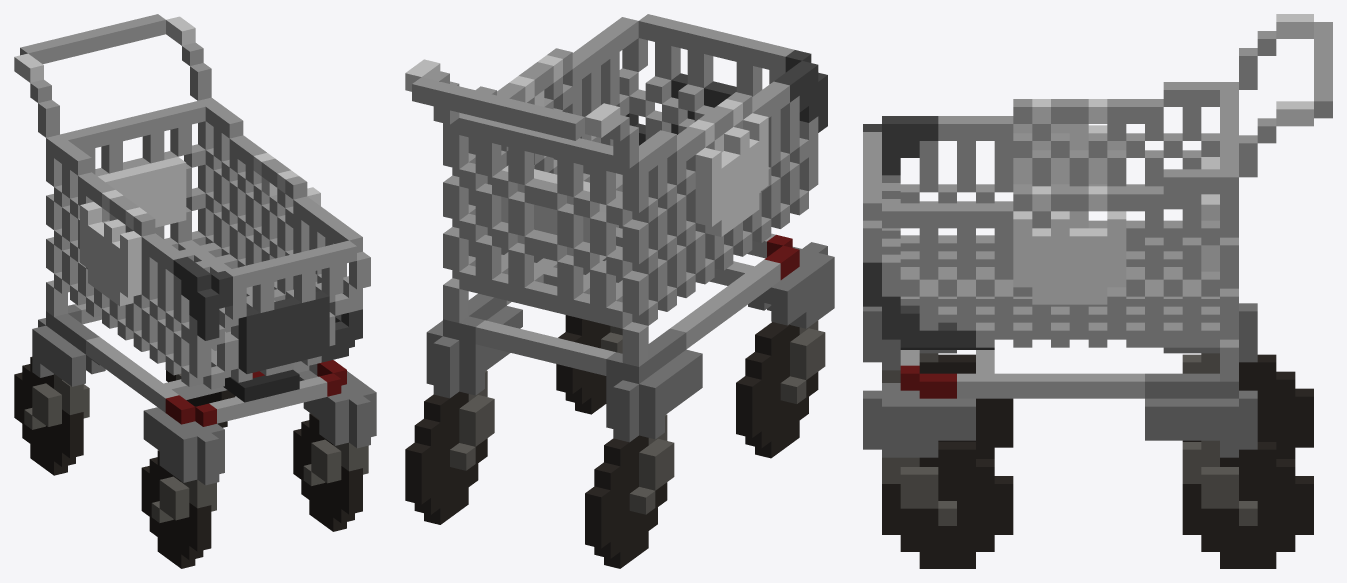
File: ShoppingCart.fbx
The picture shows the model from 3 angles, left to right: view 1: azimuth 30°, elevation 25°; view 2: azimuth 150°, elevation 25°; view 3: azimuth 270°, elevation 25°; orthographic projection. The views are drawn at different scales.
Parts seen in each view (by area): view 1: Shoppingcart-2; view 2: Shoppingcart-2; view 3: Shoppingcart-2.
Part boxes in pixels (left/top/right/bottom): Shoppingcart-2: left=14, top=14, right=376, bottom=568; Shoppingcart-2: left=405, top=14, right=834, bottom=568; Shoppingcart-2: left=863, top=14, right=1332, bottom=568.
Size of the model in its own units: 140 by 270 by 250.
